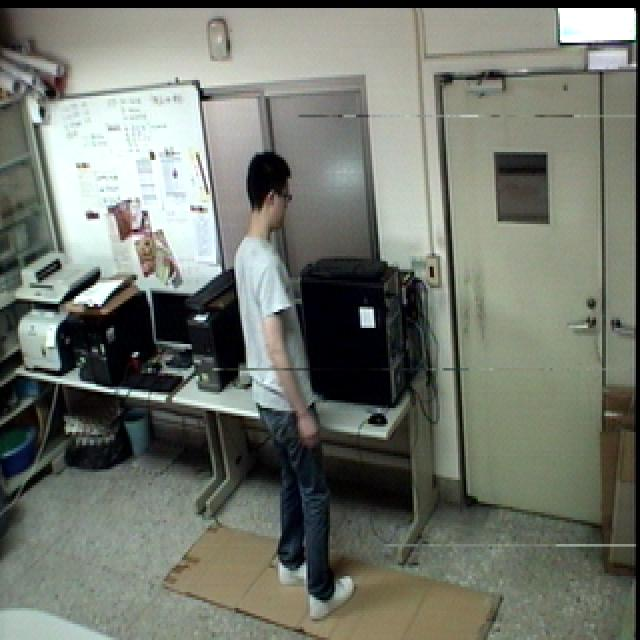stand: (232, 145, 363, 622)
